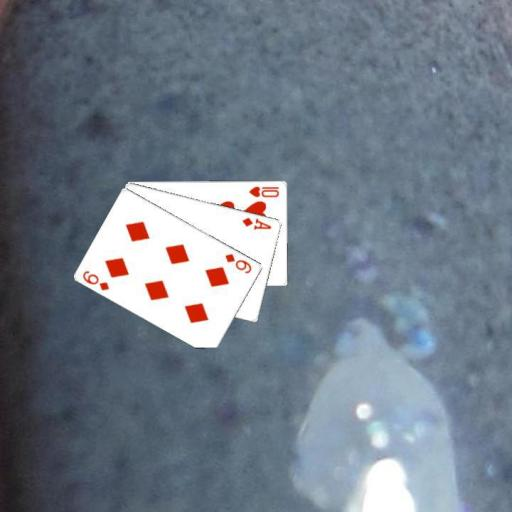10H: (246, 183, 280, 198)
6D: (222, 251, 253, 276), (80, 268, 111, 292)
AD: (239, 214, 273, 231)
